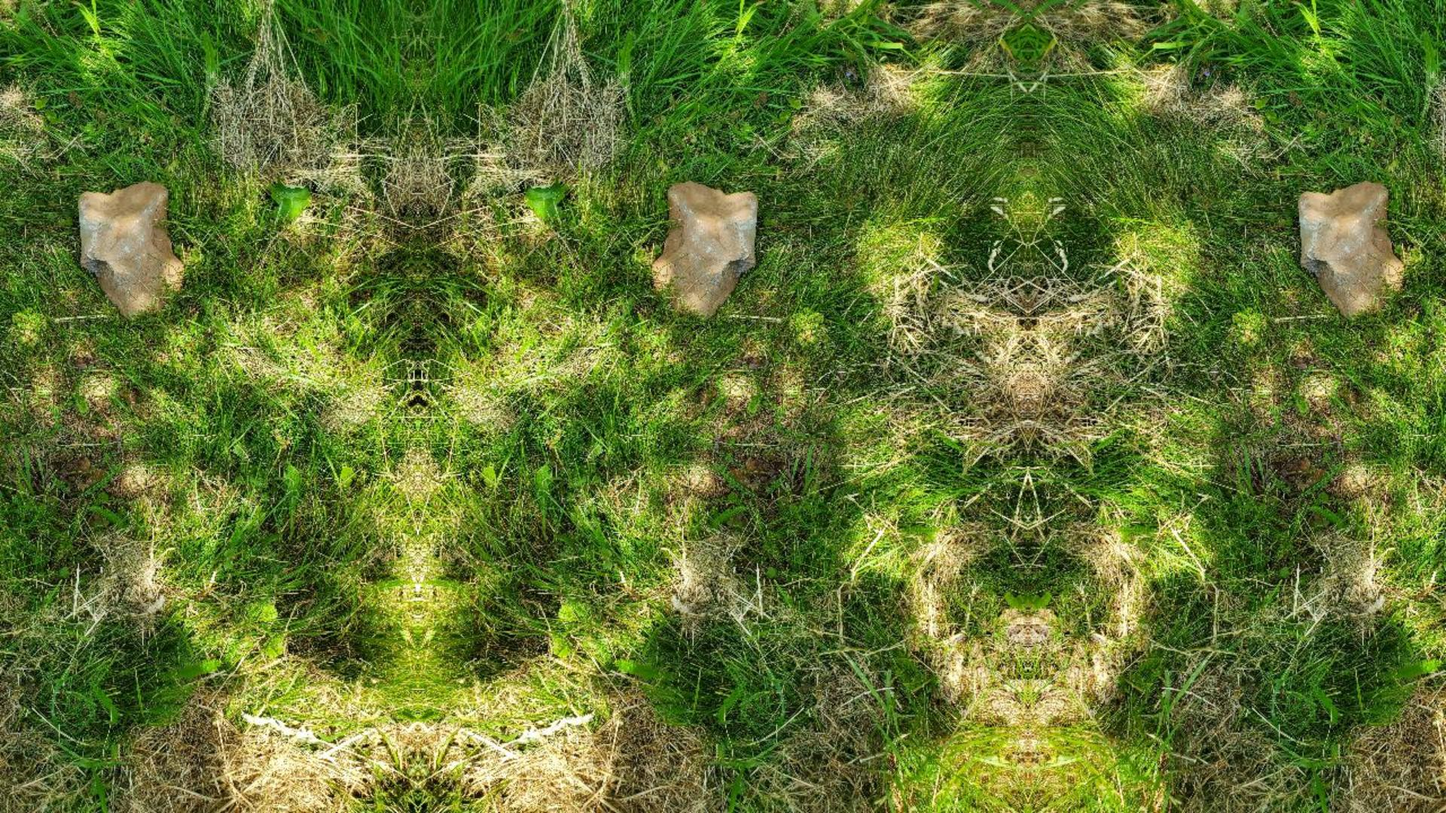rock: (652, 182, 757, 315), (1298, 182, 1403, 314), (79, 183, 183, 315)
